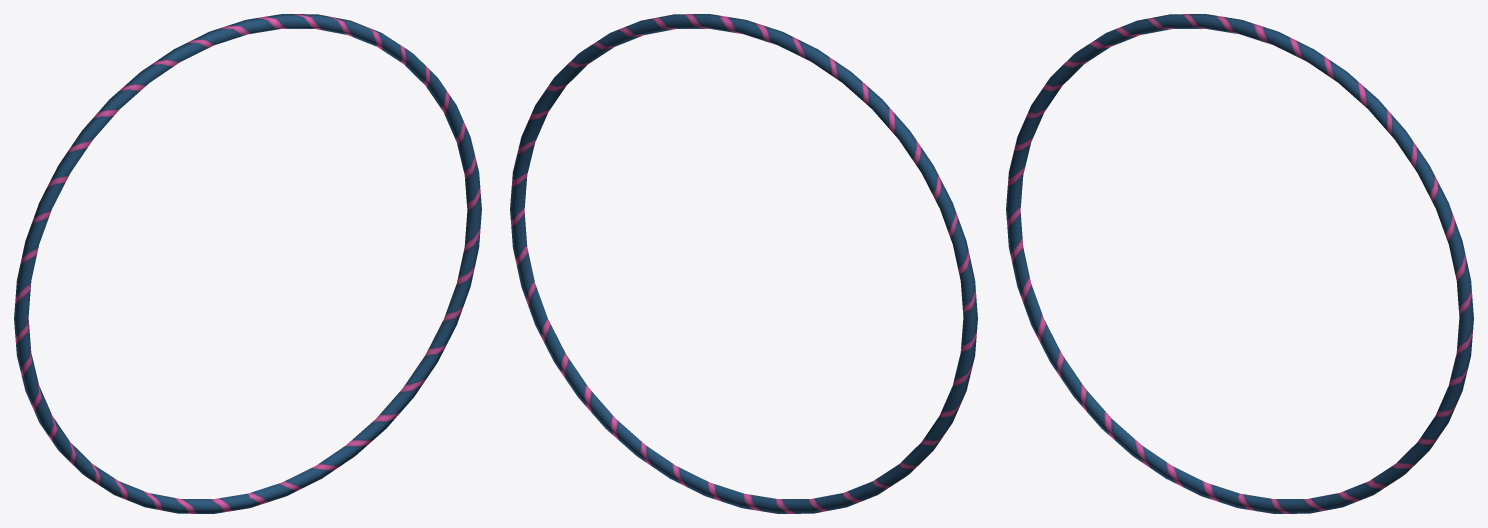
File: HulaHoop_Small2.fbx
3 renders of one model, left to right at view 1: azimuth 30°, elevation 25°; view 2: azimuth 150°, elevation 25°; view 3: azimuth 330°, elevation 25°, orthographic.
Parts seen in each view (by area): view 1: HulaHoop_Small2; view 2: HulaHoop_Small2; view 3: HulaHoop_Small2.
Boxes of the visible parts, box(x1,y1,x2,y2) form: HulaHoop_Small2: box(14, 14, 481, 513); HulaHoop_Small2: box(510, 14, 977, 513); HulaHoop_Small2: box(1006, 14, 1473, 513).
Bounding box in the file's own units: 34.72 × 34.72 × 0.9682.
